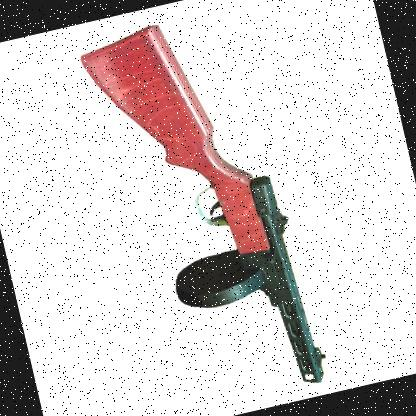rifle: (83, 0, 350, 416)
